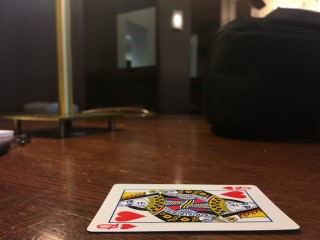QueenOfHearts: (87, 183, 300, 230)
